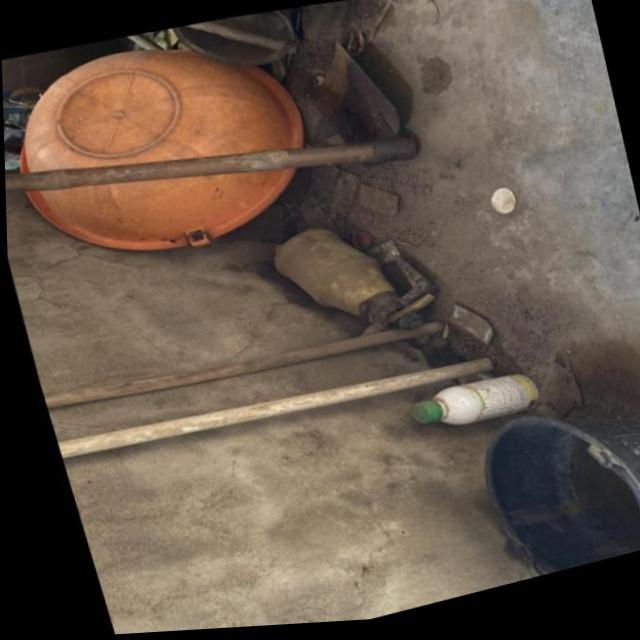clothes: (304, 14, 428, 180), (143, 0, 328, 93)
leaf: (0, 0, 336, 299), (429, 365, 640, 599), (245, 186, 451, 367), (387, 359, 540, 443)
